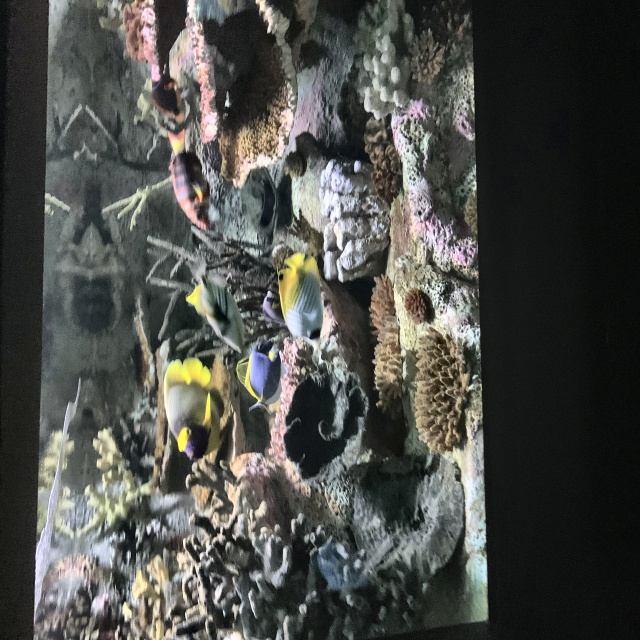fish: (164, 357, 224, 463), (186, 259, 248, 357), (166, 126, 212, 234), (276, 251, 323, 347), (236, 337, 283, 414)
